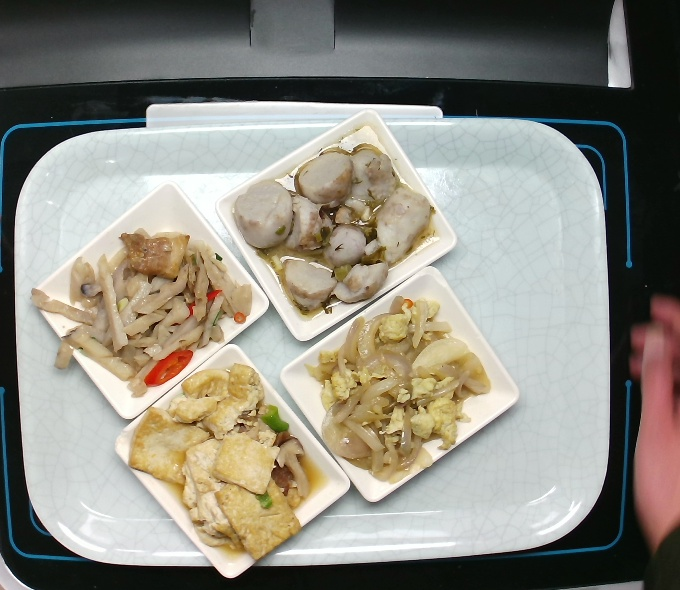wcq-JiaChangDouFu: (128, 361, 305, 554)
wcq-QingChaoOuPian: (37, 226, 253, 400)
wcq-YangCongChaoDan: (306, 297, 490, 483)
wcq-YangYu: (231, 127, 436, 333)
